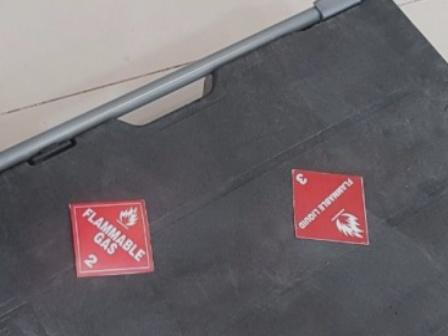flammable: (68, 199, 155, 280), (289, 168, 371, 248)
